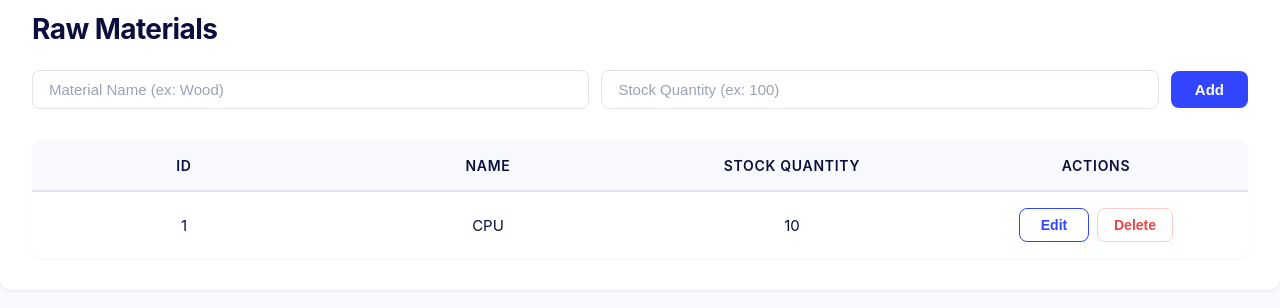
RawMaterials Component › Estado do Componente › botão Cancel restaura formulário ao modo de adição
This screenshot has width=1280, height=308.
Expected: the text "CPU" is shown, [336,192,640,258]
# Entra em modo de edição
Click the button "Edit" at {"x": 1054, "y": 225}, box [1019,208,1089,242]
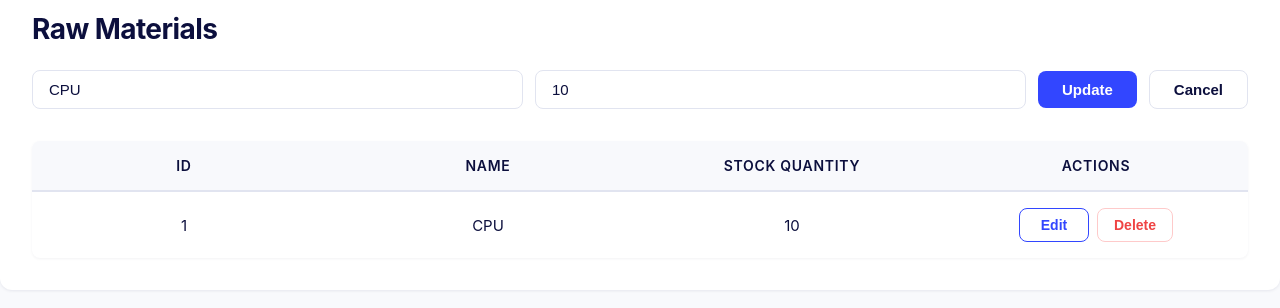
Expected: the button "Update" is shown, [1038,71,1137,108]
# Clica em Cancel
Click the button "Cancel" at {"x": 1198, "y": 90}, box [1149,70,1248,109]
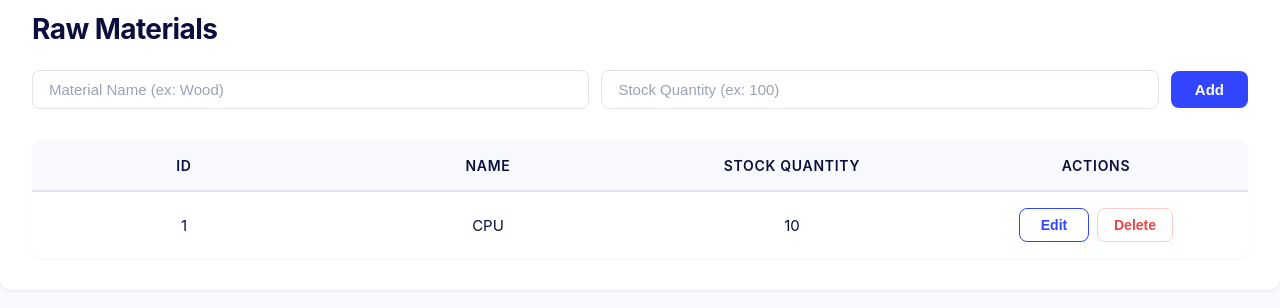
Expected: the button "Add" is shown, [1171,71,1248,108]
Expected: the field with placeholder "Material Name (ex: Wood)" is empty, [32,70,589,109]
